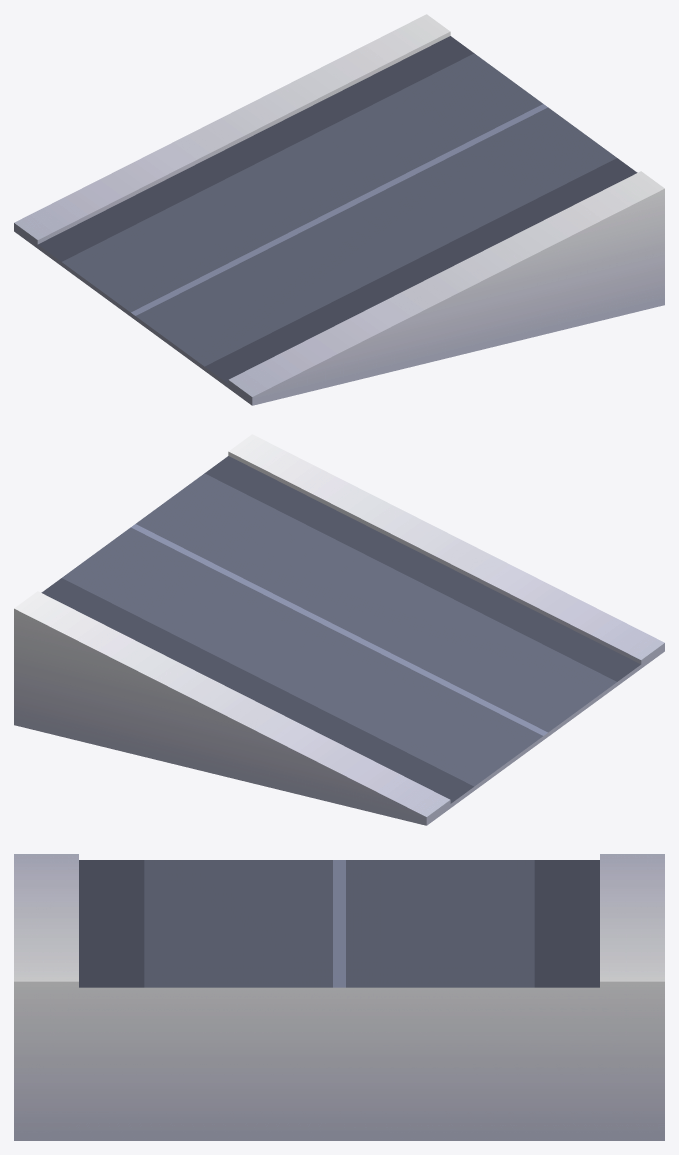
Rendered from road-slant.glb.
The picture shows the model from 3 angles, top to bottom: view 1: azimuth 30°, elevation 25°; view 2: azimuth 150°, elevation 25°; view 3: azimuth 270°, elevation 25°; orthographic projection. The views are drawn at different scales.
Parts seen in each view (by area): view 1: road-slant; view 2: road-slant; view 3: road-slant.
Boxes of the visible parts, box(x1,y1,x2,y2) form: road-slant: box(14, 14, 664, 405); road-slant: box(14, 434, 664, 825); road-slant: box(14, 854, 664, 1140).
Bounding box in the file's own units: 1 × 0.27 × 1.
1 material, 1 textured.
